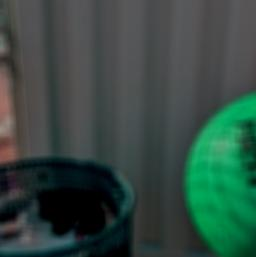algae: (181, 82, 256, 257)
